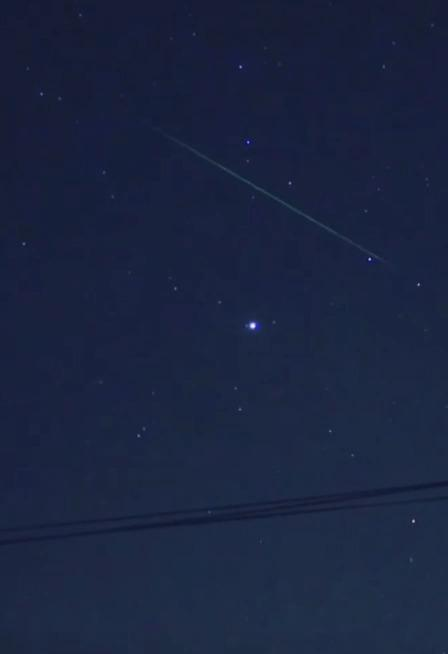meteorite: (126, 118, 326, 235)
